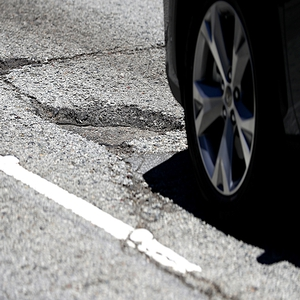pothole: (41, 102, 184, 166)
